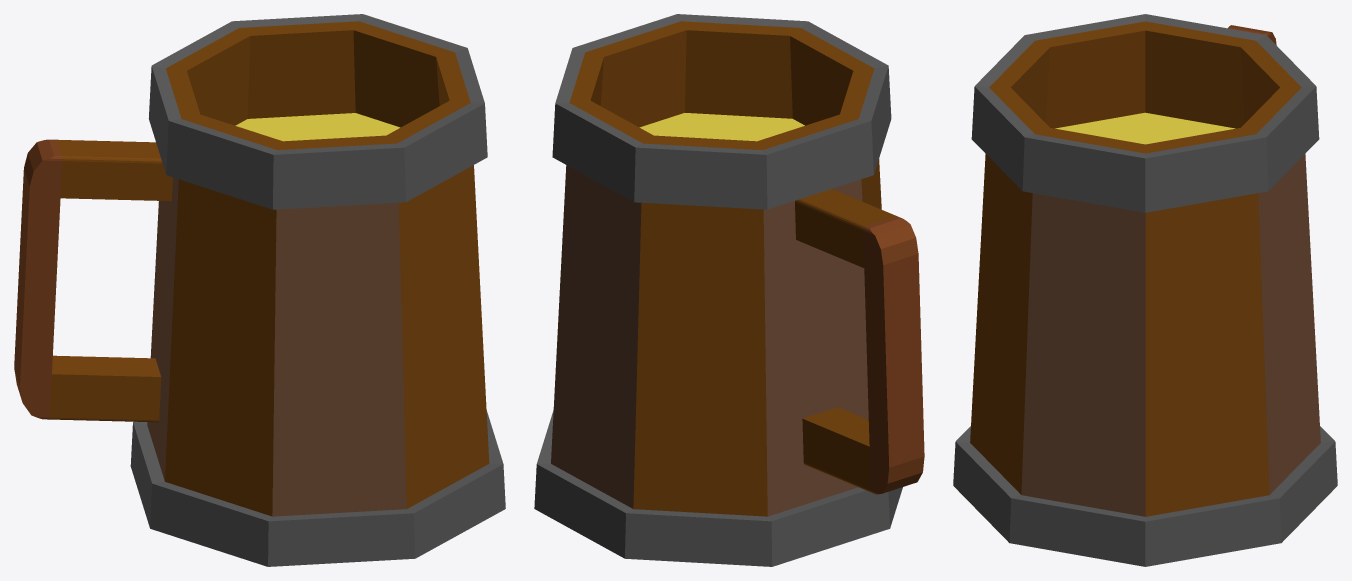
The model's file is Tankard.fbx.
The picture shows the model from 3 angles, left to right: view 1: azimuth 30°, elevation 25°; view 2: azimuth 150°, elevation 25°; view 3: azimuth 270°, elevation 25°; orthographic projection.
Parts seen in each view (by area): view 1: Tankard, Liquid; view 2: Tankard, Liquid; view 3: Tankard, Liquid.
Part boxes in pixels (box(x1,y1,x2,y2)): Tankard: box(14, 14, 505, 566); Liquid: box(235, 113, 400, 141); Tankard: box(534, 14, 924, 566); Liquid: box(639, 113, 804, 141); Tankard: box(953, 14, 1337, 566); Liquid: box(1055, 112, 1235, 144).
Size of the model in its own units: 0.6505 by 0.5226 by 0.6007.
